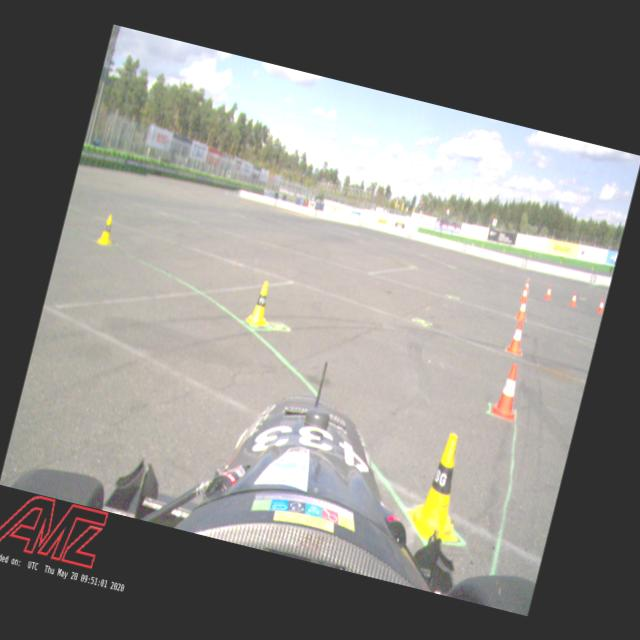orange_cone: (489, 359, 527, 423), (503, 316, 530, 357), (514, 295, 530, 320), (542, 284, 554, 301), (568, 290, 580, 307), (595, 296, 606, 314)
yellow_cone: (399, 426, 483, 548), (245, 275, 275, 325), (95, 210, 117, 244)
